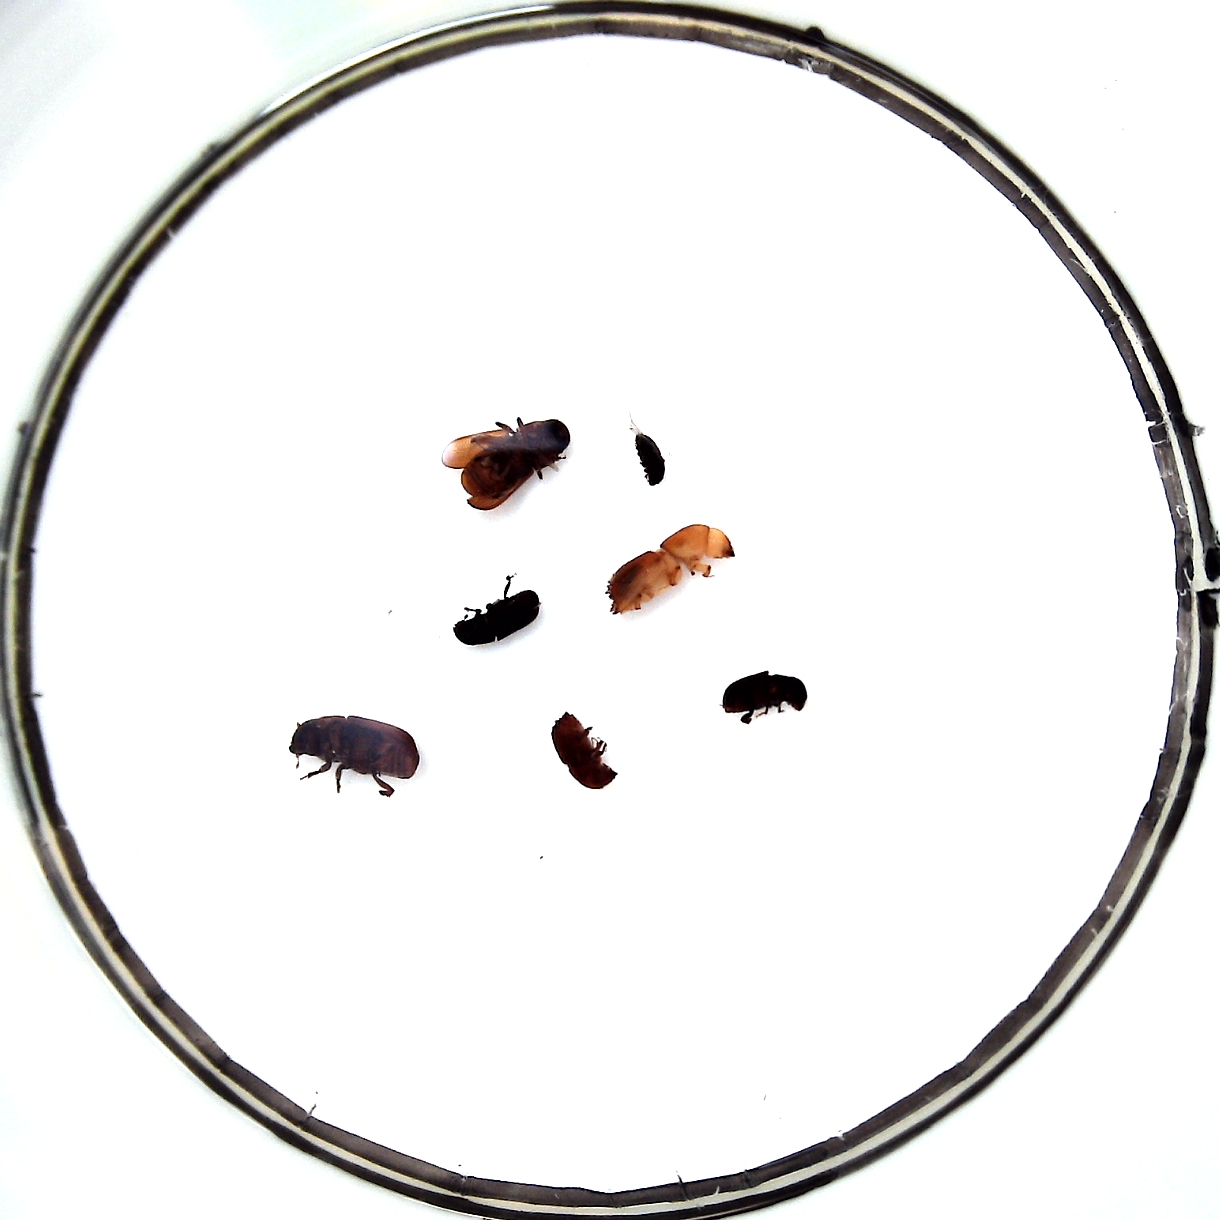Boerner: (606, 522, 736, 616)
Leconte: (441, 414, 569, 509), (289, 716, 418, 795)
armandi: (452, 590, 540, 645), (721, 671, 808, 724)
coleoptera: (633, 433, 665, 486)
linnaeus: (551, 711, 618, 789)
